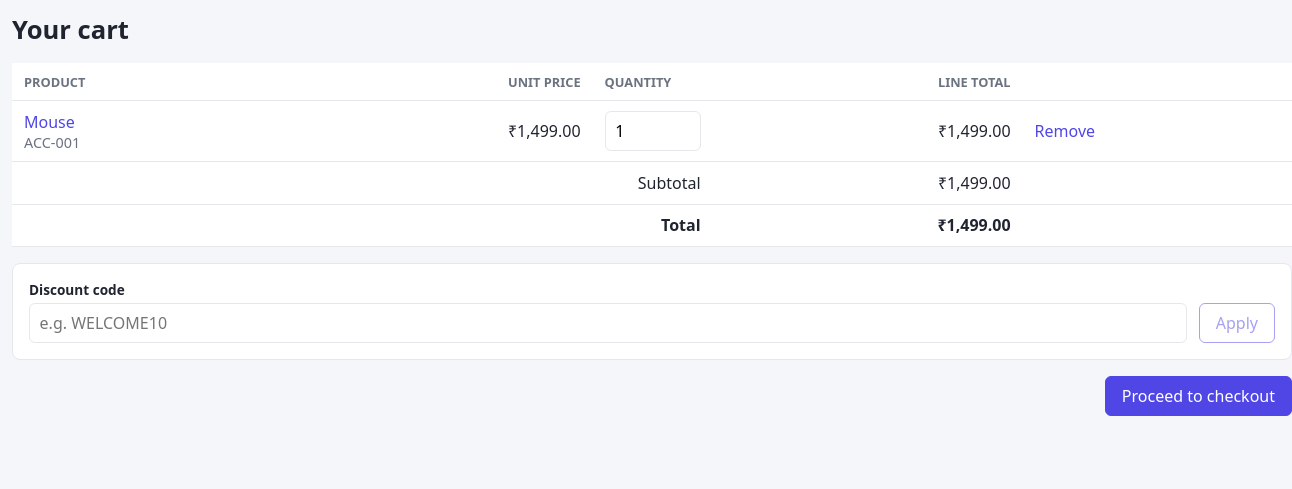
Test: CartComponent › shows the server message when a discount is not applicable
The image size is (1292, 489).
In the field with id "code": (608, 323) [29, 303, 1187, 343], type "FLAT200"
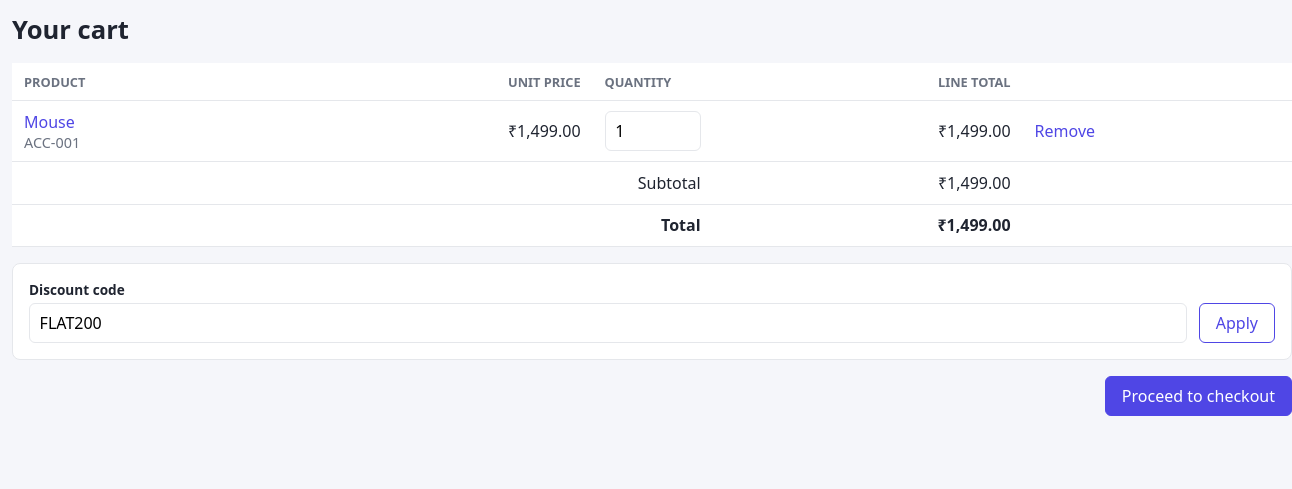
Submit the form, box [12, 263, 1291, 360]
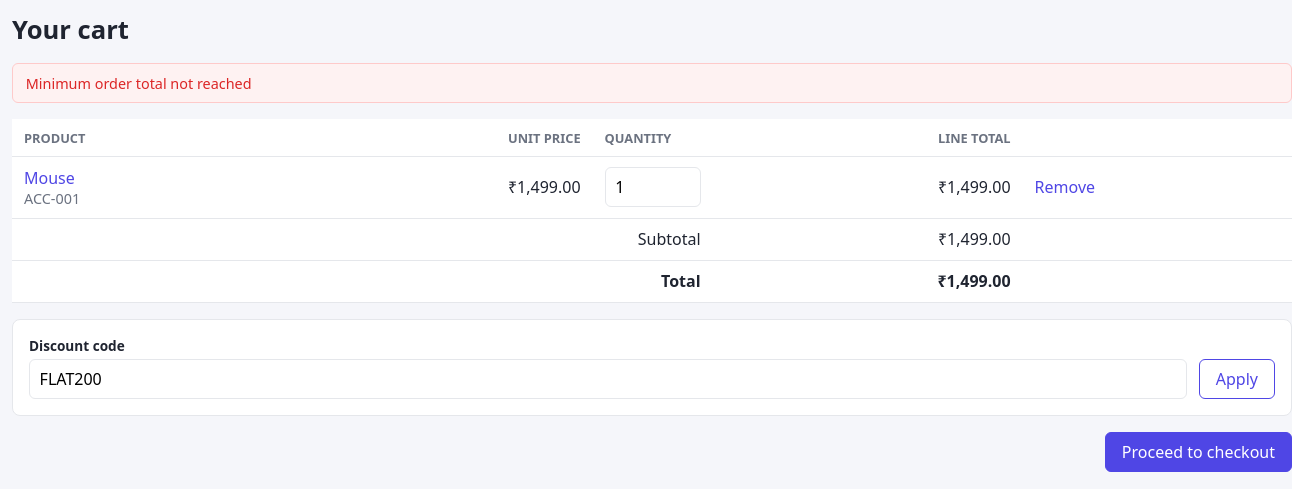
Check: the text "Minimum order total not reached" is shown, box [12, 63, 1291, 103]
